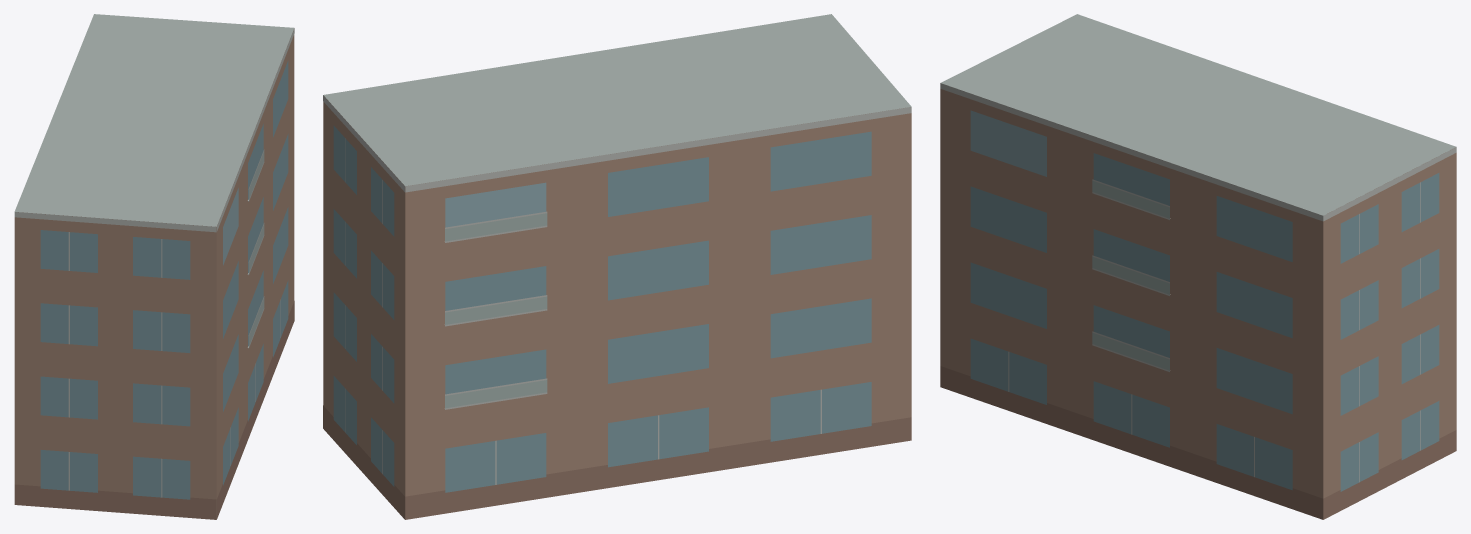
File: survey-upis-32982448.glb
3 views of the same model, side by side, from view 1: azimuth 30°, elevation 25°; view 2: azimuth 150°, elevation 25°; view 3: azimuth 270°, elevation 25° (orthographic). The views are drawn at different scales.
Visible parts, largest first — view 1: survey-upis-32982448.tmp; view 2: survey-upis-32982448.tmp; view 3: survey-upis-32982448.tmp.
Boxes of the visible parts, bbox=[...] form: survey-upis-32982448.tmp: bbox=[14, 14, 294, 519]; survey-upis-32982448.tmp: bbox=[323, 14, 911, 519]; survey-upis-32982448.tmp: bbox=[940, 14, 1456, 519].
Bounding box in the file's own units: 18.45 × 12.96 × 19.94.
